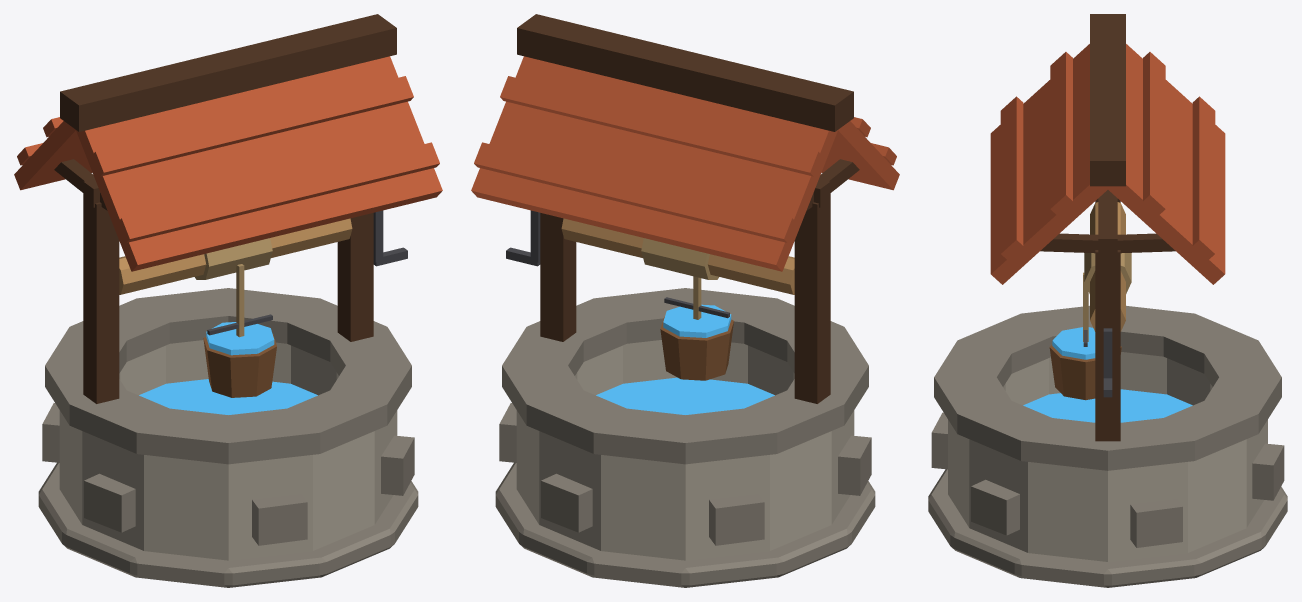
Rendered from Brunnen.fbx.
3 renders of one model, left to right at view 1: azimuth 30°, elevation 25°; view 2: azimuth 150°, elevation 25°; view 3: azimuth 270°, elevation 25°, orthographic. The views are drawn at different scales.
Visible parts, largest first — view 1: Brunnen; view 2: Brunnen; view 3: Brunnen.
Boxes of the visible parts, left/top/right/bottom form: Brunnen: left=14, top=14, right=442, bottom=587; Brunnen: left=471, top=14, right=899, bottom=587; Brunnen: left=928, top=14, right=1287, bottom=587.
Bounding box in the file's own units: 2.69 × 3.38 × 2.58.
